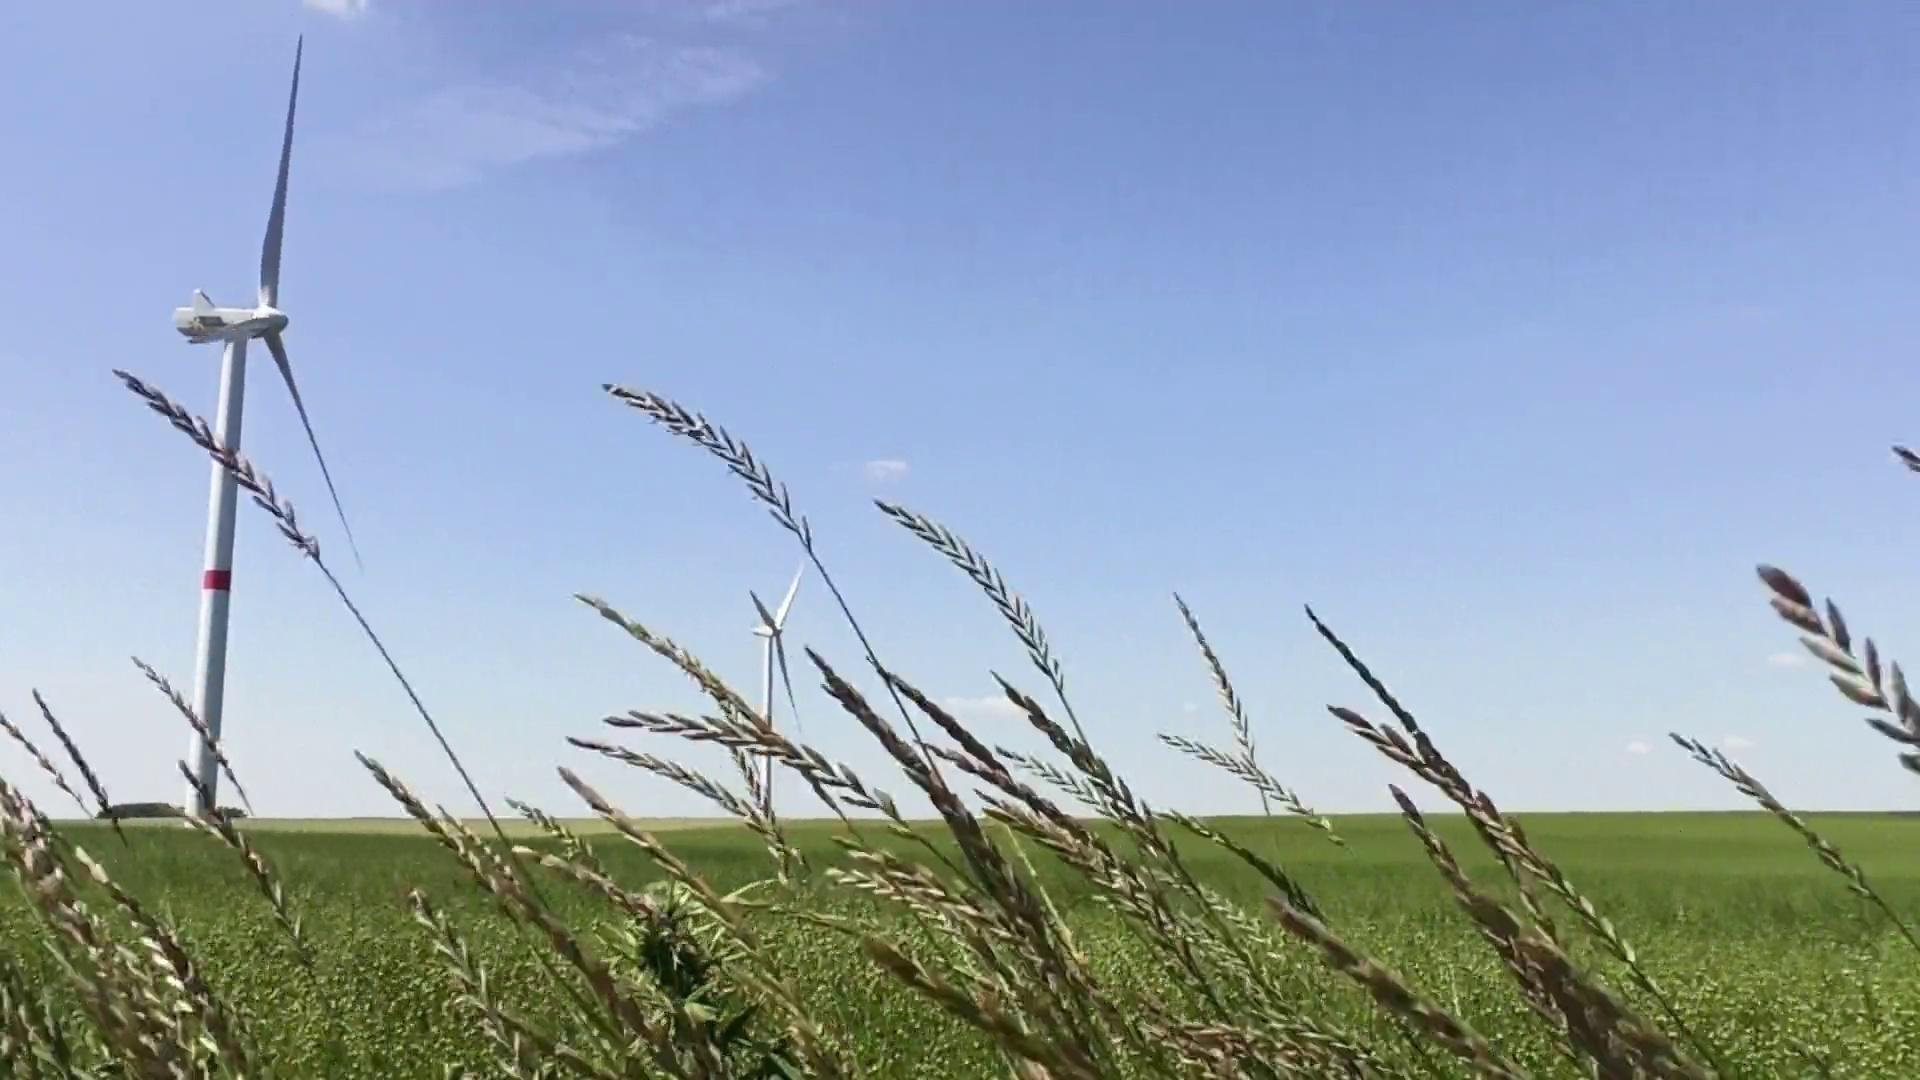turbine: (96, 16, 418, 881), (688, 554, 837, 829)
